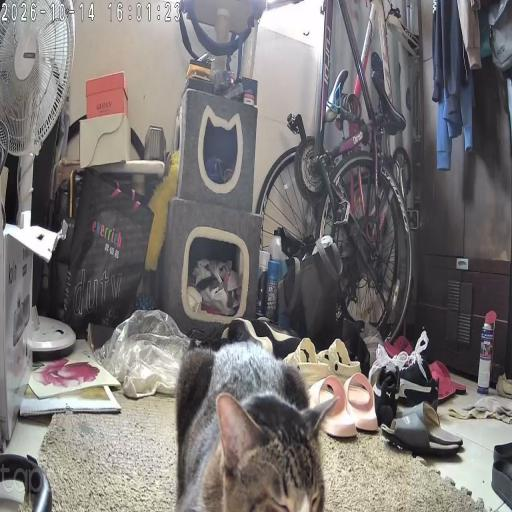cat: (181, 347, 320, 512)
